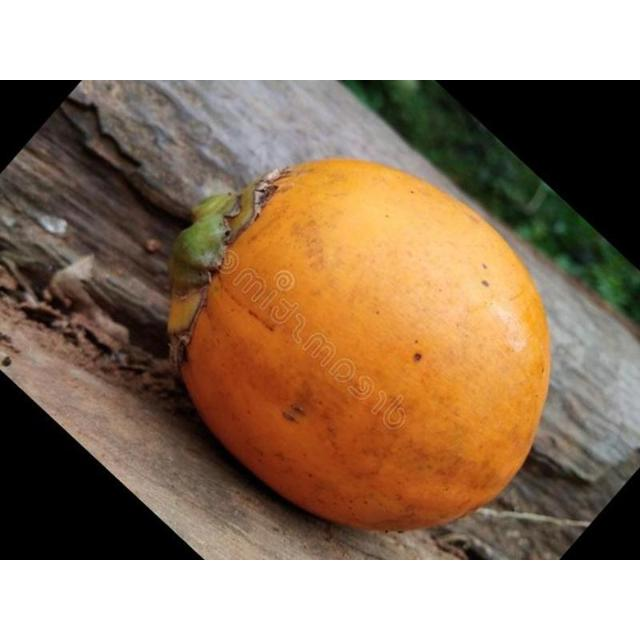good: (167, 158, 550, 531)
